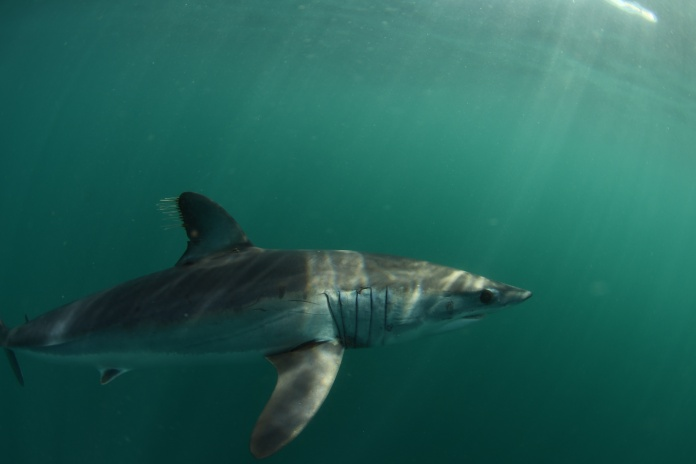Mako: (1, 176, 542, 462)
